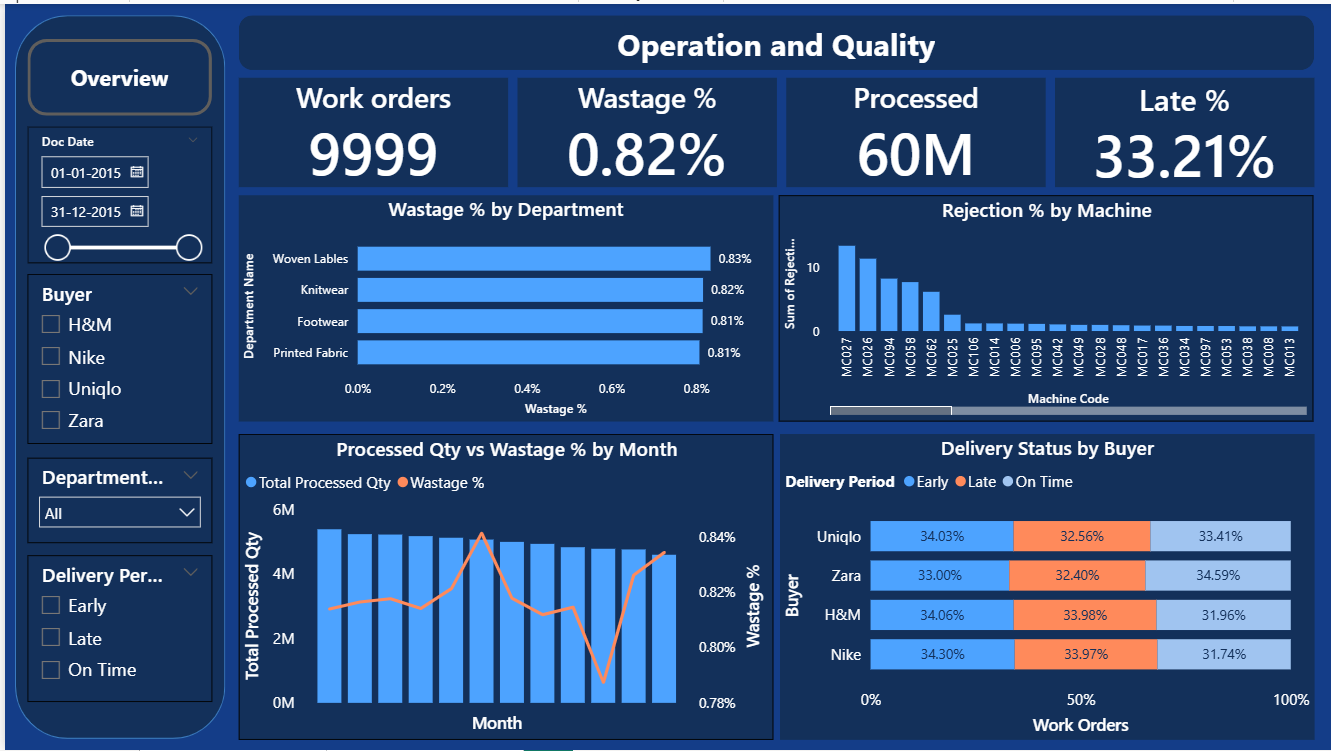

This screenshot's page, from the dashboard's own definition file:
{"tool":"powerbi","page":{"name":"operation and quality","canvas":[1280,720],"ordinal":1},"visuals":[{"type":"shape","box":[9.7,11.1,203,698.4],"z":0},{"type":"actionButton","box":[22.3,33.4,178,74],"z":1000},{"type":"slicer","fields":{"Values":["Sheet1.Doc Date"]},"box":[22.3,118.3,178.1,132.2],"z":2000},{"type":"slicer","fields":{"Values":["Sheet1.Buyer"]},"box":[22.3,260.2,178.1,164.2],"z":3000},{"type":"slicer","fields":{"Values":["Sheet1.Department Name"]},"box":[22.3,438.3,178.1,82.1],"z":4000},{"type":"slicer","fields":{"Values":["Sheet1.Delivery Period"]},"box":[22.3,531.5,178.1,141.9],"z":5000},{"type":"shape","box":[225.4,11.1,1038,53],"z":6000},{"type":"card","title":"Work orders","fields":{"Values":["Sheet1.Work Orders"]},"box":[225.4,71,260.2,105.7],"z":6001},{"type":"card","title":"Wastage %","fields":{"Values":["Sheet1.Wastage %"]},"box":[494.4,71,250.4,105.7],"z":6002},{"type":"card","title":"Processed","fields":{"Values":["Sheet1.Total Processed Qty"]},"box":[753.6,71,250.4,105.7],"z":6003},{"type":"card","title":"Late %","fields":{"Values":["Sheet1.Late Delivery %"]},"box":[1012.9,71,250.4,105.7],"z":6004},{"type":"barChart","title":"Wastage % by Department","fields":{"Y":["Sheet1.Wastage %"],"Category":["Sheet1.Department Name"]},"box":[225.4,185,516,218.4],"z":6005},{"type":"columnChart","title":"Rejection % by Machine ","fields":{"Y":["Sum(Sheet1.Rejection %)"],"Category":["Sheet1.Machine Code"]},"box":[747.1,185,516.2,218.4],"z":6006},{"type":"hundredPercentStackedBarChart","title":"Delivery Status by Buyer","fields":{"Category":["Sheet1.Buyer"],"Y":["Sheet1.Work Orders"],"Series":["Sheet1.Delivery Period"]},"box":[748.5,414.6,516.2,295],"z":6007},{"type":"lineClusteredColumnComboChart","title":"Processed Qty vs Wastage % by Month","fields":{"Y":["Sheet1.Total Processed Qty"],"Category":["Sheet1.MonthNo","Sheet1.Month"],"Y2":["Sheet1.Wastage %"]},"box":[225.4,414.6,516.2,295],"z":6008}]}

Visuals, with their boxes in screenshot pixels (x1, y1, x2, y2), scaled from the page's 1280x720 canvas onto the 1331x751 screenshot:
shape: x1=10 y1=12 x2=221 y2=740
actionButton: x1=23 y1=35 x2=208 y2=112
slicer - Sheet1.Doc Date: x1=23 y1=123 x2=208 y2=261
slicer - Sheet1.Buyer: x1=23 y1=271 x2=208 y2=443
slicer - Sheet1.Department Name: x1=23 y1=457 x2=208 y2=543
slicer - Sheet1.Delivery Period: x1=23 y1=554 x2=208 y2=702
shape: x1=234 y1=12 x2=1314 y2=67
"Work orders" card: x1=234 y1=74 x2=505 y2=184
"Wastage %" card: x1=514 y1=74 x2=774 y2=184
"Processed" card: x1=784 y1=74 x2=1044 y2=184
"Late %" card: x1=1053 y1=74 x2=1314 y2=184
"Wastage % by Department" barChart: x1=234 y1=193 x2=771 y2=421
"Rejection % by Machine " columnChart: x1=777 y1=193 x2=1314 y2=421
"Delivery Status by Buyer" hundredPercentStackedBarChart: x1=778 y1=432 x2=1315 y2=740
"Processed Qty vs Wastage % by Month" lineClusteredColumnComboChart: x1=234 y1=432 x2=771 y2=740
